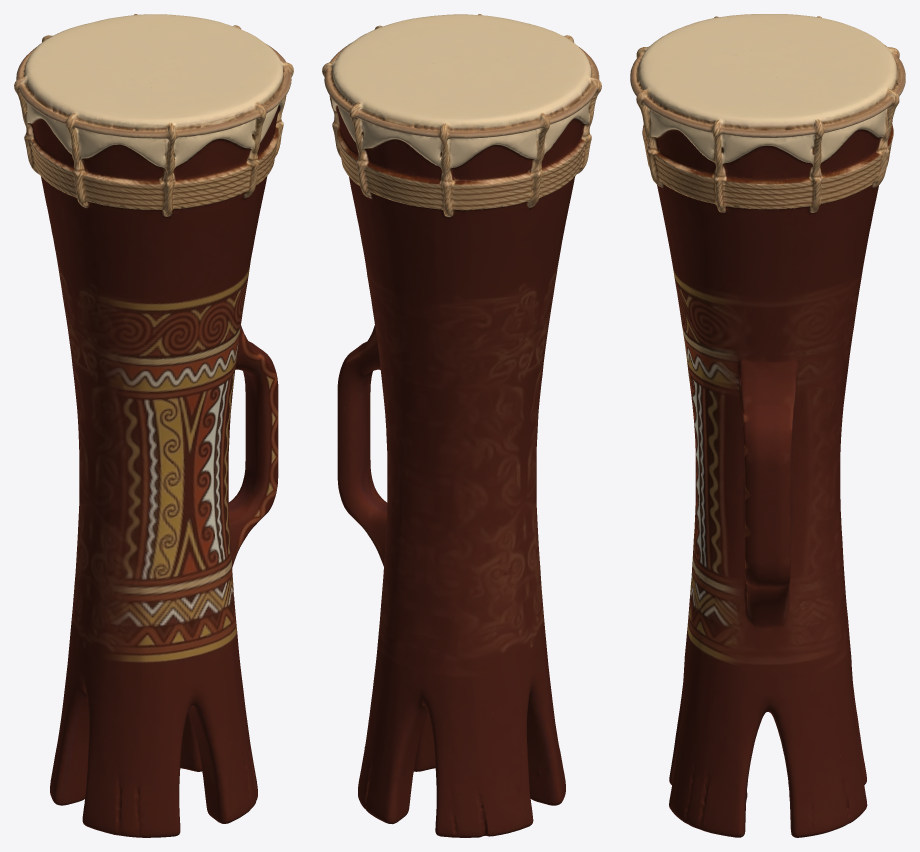
The model's file is Tifa.glb.
3 renders of one model, left to right at view 1: azimuth 30°, elevation 25°; view 2: azimuth 150°, elevation 25°; view 3: azimuth 270°, elevation 25°, orthographic.
Bounding box in the file's own units: 0.6471 × 1.9 × 0.6468.
Materials: 1 (1 with a texture image).
